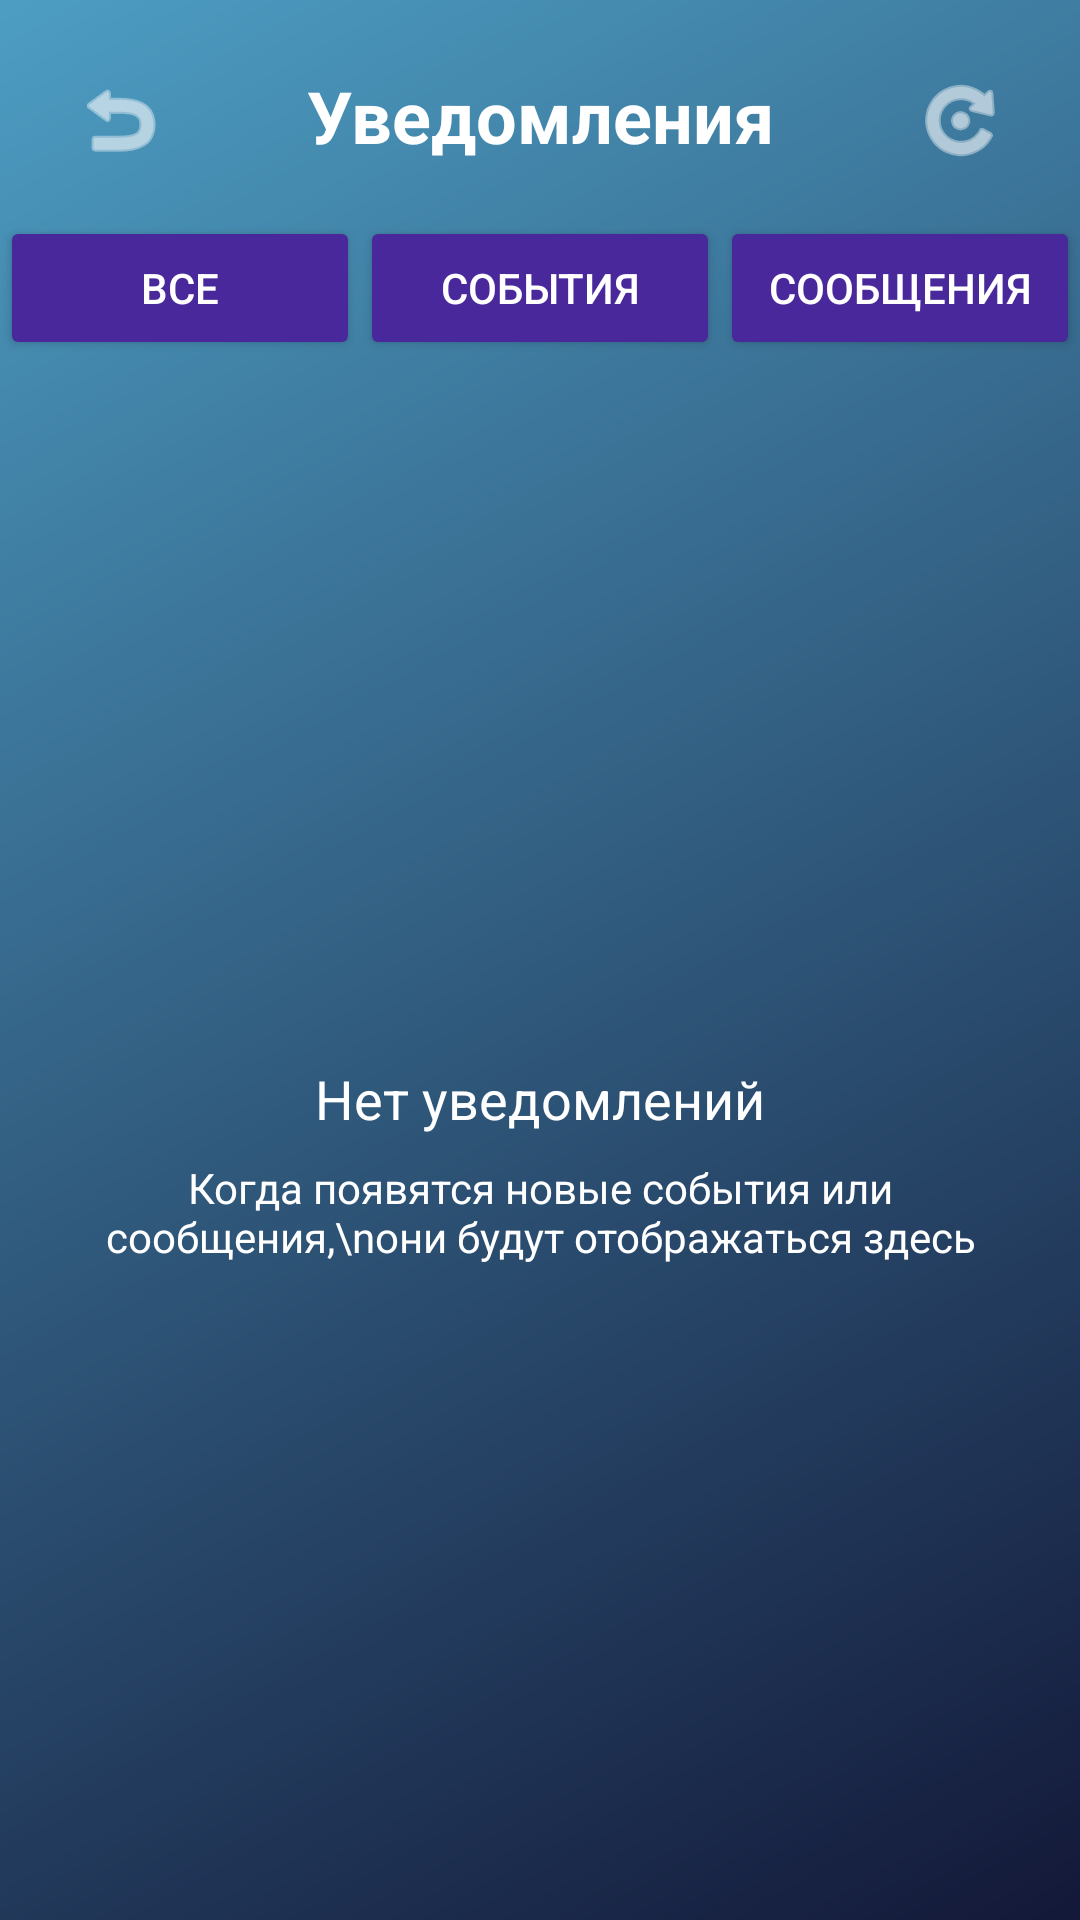

Locate icon controls on the screen. Image size 1080w x 1920h, boxes as rect(x1, y1, x2, y2).
Назад: rect(87, 89, 156, 152)
Обновить: rect(925, 85, 995, 156)
